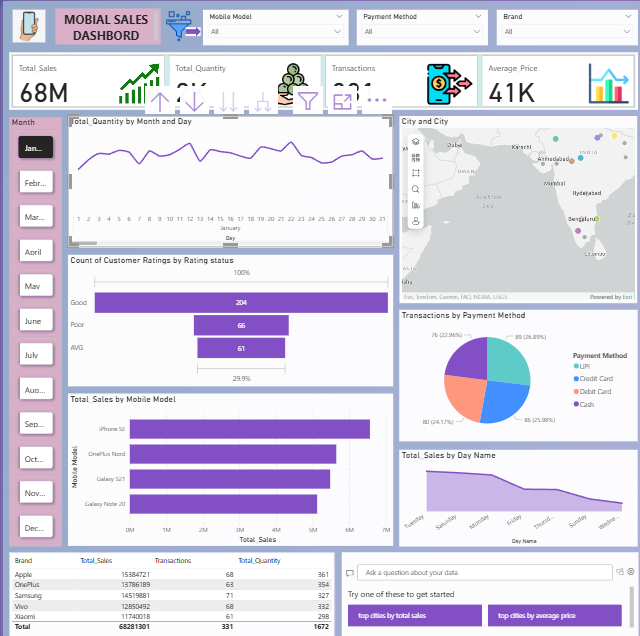

The dashboard page shown, as its layout file describes it:
{"tool":"powerbi","page":{"name":"Page 1","canvas":[1280,1300],"ordinal":0},"visuals":[{"type":"advancedSlicerVisual","fields":{"Values":["Custom_Calendar.Date.Variation.Date Hierarchy.Month"]},"box":[11.7,231.7,105,858.3],"z":0},{"type":"cardVisual","fields":{"Data":["Sales_Data.Total_Sales","Sales_Data.Total_Quantity","Sales_Data.Transactions","Sales_Data.Average_Price"]},"box":[11.2,102.5,1257.5,115],"z":1000},{"type":"slicer","fields":{"Values":["Sales_Data.Mobile Model"]},"box":[400,16.2,291.2,71.2],"z":2000},{"type":"slicer","fields":{"Values":["Sales_Data.Payment Method"]},"box":[707.5,16.2,262.5,71.2],"z":3000},{"type":"slicer","fields":{"Values":["Sales_Data.Brand"]},"box":[986.2,16.2,282.5,71.2],"z":4000},{"type":"image","box":[61.4,15.7,578.6,71.4],"z":5000},{"type":"shape","box":[364.7,52,30,17.3],"z":6000},{"type":"textbox","box":[104.5,15.5,210,71.8],"z":7000},{"type":"image","box":[0,11.4,104.8,75.7],"z":8000},{"type":"lineChart","fields":{"Y":["Sales_Data.Total_Quantity"],"Category":["Custom_Calendar.Date.Variation.Date Hierarchy.Month","Custom_Calendar.Date.Variation.Date Hierarchy.Day"]},"box":[130,230,650,263.3],"z":9000},{"type":"funnel","fields":{"Y":["CountNonNull(Sales_Data.Customer Ratings)"],"Category":["Sales_Data.Rating status"]},"box":[130,508.3,650,263.3],"z":10000},{"type":"pieChart","fields":{"Y":["Sales_Data.Transactions"],"Category":["Sales_Data.Payment Method"]},"box":[793.3,618.3,476.7,263.3],"z":11000},{"type":"clusteredBarChart","fields":{"Y":["Sales_Data.Total_Sales"],"Category":["Sales_Data.Mobile Model"]},"box":[130,785,650,305],"z":12000},{"type":"areaChart","fields":{"Y":["Sales_Data.Total_Sales"],"Category":["Custom_Calendar.Day Name"]},"box":[793.3,896.7,476.7,193.3],"z":13000},{"type":"tableEx","fields":{"Values":["Sales_Data.Brand","Sales_Data.Total_Sales","Sales_Data.Transactions","Sales_Data.Total_Quantity"]},"box":[11.7,1103.3,650,181.7],"z":14000},{"type":"qnaVisual","box":[676.7,1103.3,593.3,181.7],"z":15000},{"type":"esriVisual","fields":{"Location":["Sales_Data.City"],"Color":["Sales_Data.City"]},"box":[792.9,230,475.7,374.3],"z":16000}]}

Visuals, with their boxes in screenshot pixels (x1, y1, x2, y2), scaled from the page's 1280x1300 canvas onto the 640x636 screenshot:
advancedSlicerVisual - Custom_Calendar.Date.Variation.Date Hierarchy.Month: 6 113 58 533
cardVisual - Sales_Data.Total_Sales x Sales_Data.Total_Quantity: 6 50 634 106
slicer - Sales_Data.Mobile Model: 200 8 346 43
slicer - Sales_Data.Payment Method: 354 8 485 43
slicer - Sales_Data.Brand: 493 8 634 43
image: 31 8 320 43
shape: 182 25 197 34
textbox: 52 8 157 43
image: 0 6 52 43
lineChart - Sales_Data.Total_Quantity x Custom_Calendar.Date.Variation.Date Hierarchy.Month: 65 113 390 241
funnel - CountNonNull(Sales_Data.Customer Ratings) x Sales_Data.Rating status: 65 249 390 377
pieChart - Sales_Data.Transactions x Sales_Data.Payment Method: 397 302 635 431
clusteredBarChart - Sales_Data.Total_Sales x Sales_Data.Mobile Model: 65 384 390 533
areaChart - Sales_Data.Total_Sales x Custom_Calendar.Day Name: 397 439 635 533
tableEx - Sales_Data.Brand x Sales_Data.Total_Sales: 6 540 331 629
qnaVisual: 338 540 635 629
esriVisual - Sales_Data.City x Sales_Data.City: 396 113 634 296
